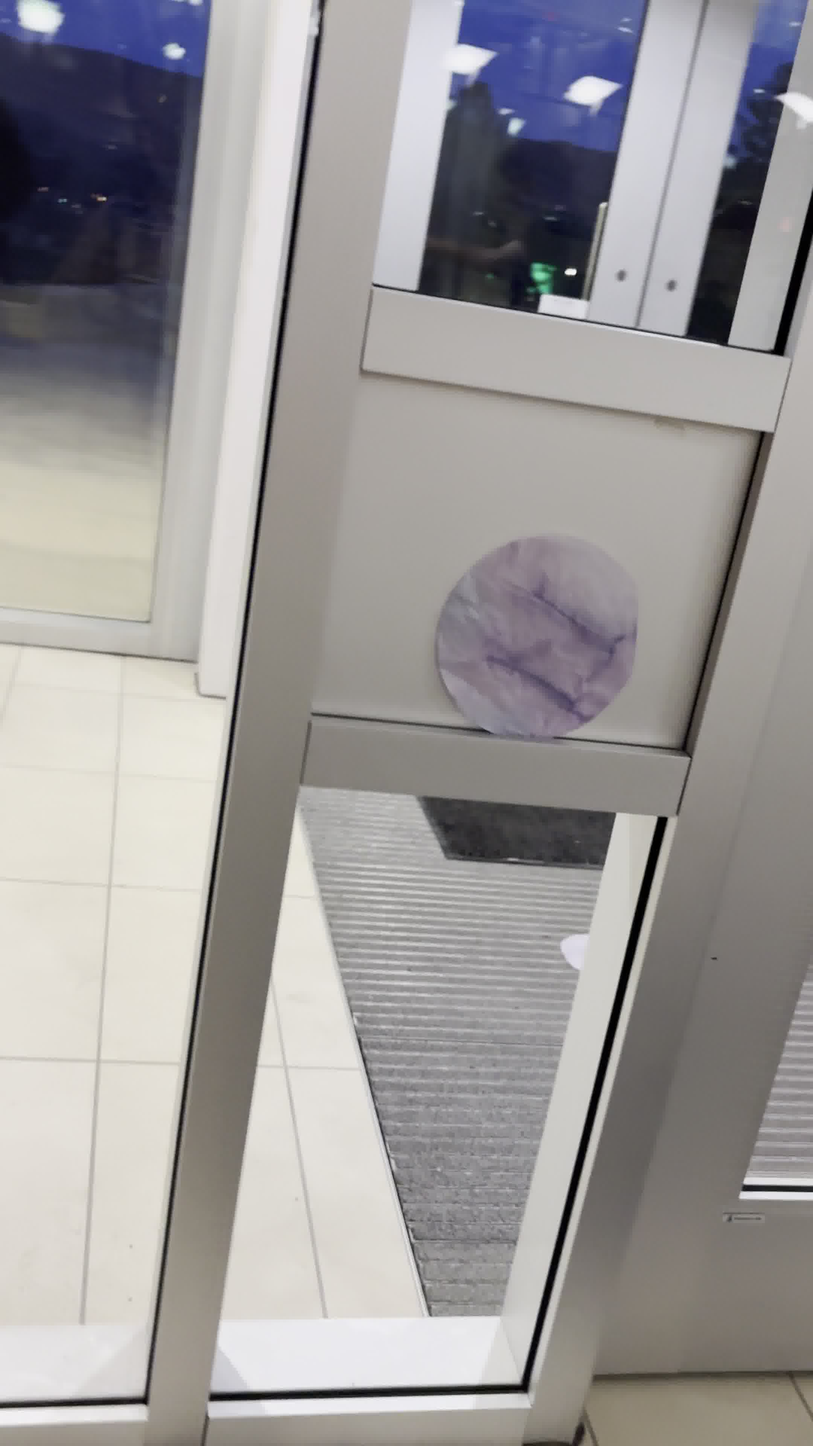Target: (434, 531, 641, 745)
